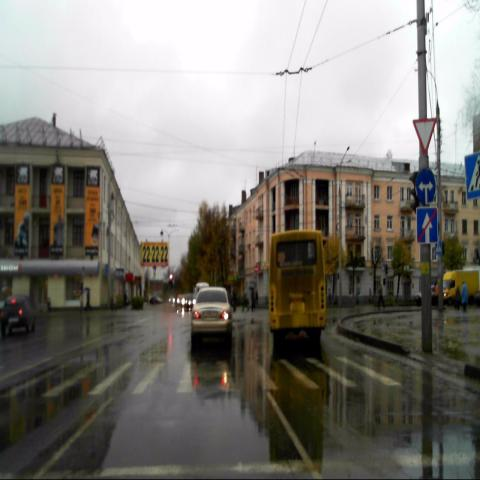4_1_6: (416, 169, 436, 205)
5_6: (417, 208, 438, 244)
